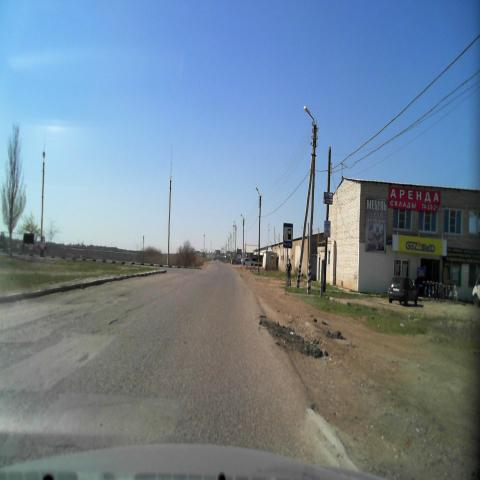7_3: (283, 223, 293, 248)
